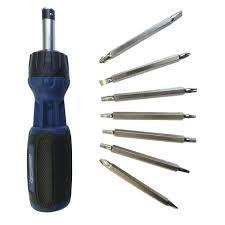screwdriver: (26, 4, 71, 211), (98, 31, 146, 63), (97, 64, 149, 85), (141, 181, 178, 209), (97, 157, 134, 183), (144, 154, 190, 173), (150, 51, 190, 68), (137, 108, 195, 119), (98, 141, 136, 156), (156, 9, 182, 29), (101, 128, 144, 139), (100, 93, 148, 102), (151, 85, 197, 94), (99, 110, 141, 119), (140, 135, 195, 141)
